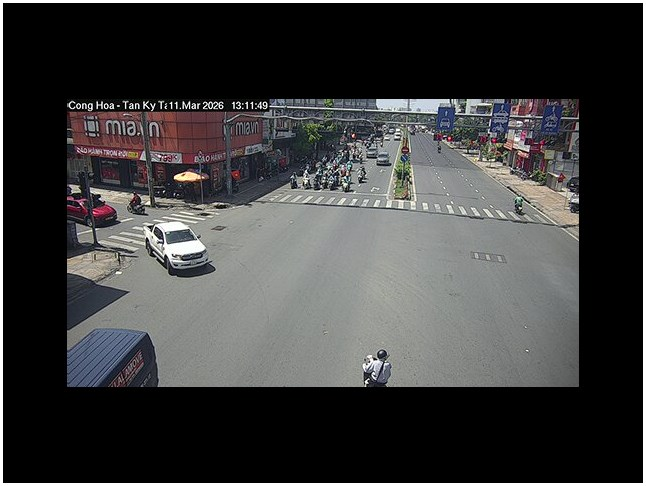car: (67, 327, 159, 386), (144, 221, 210, 272), (67, 196, 119, 227)
